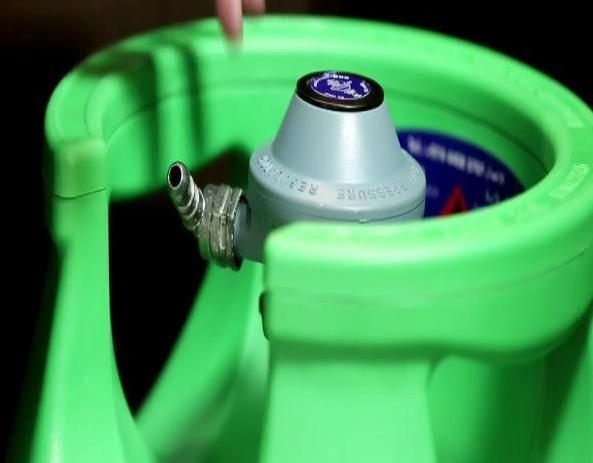cylinder: (1, 0, 593, 463)
